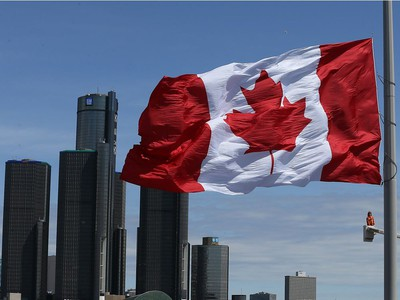Canada flag: (119, 36, 380, 195)
